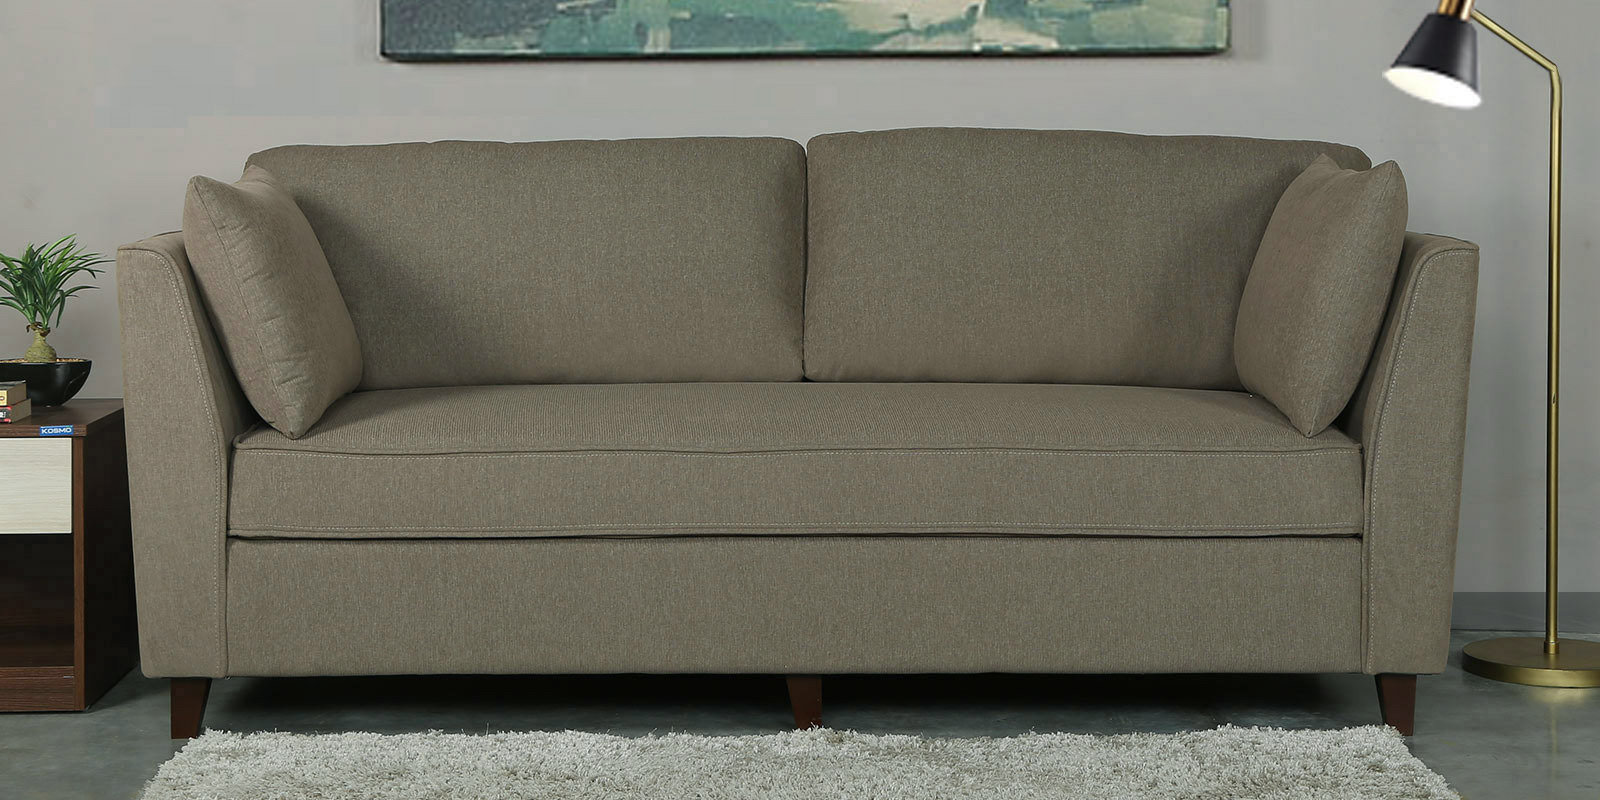Miranda Three Seater Sofa in Sandy Brown Colour by CasaCraft: (115, 124, 1479, 736)
